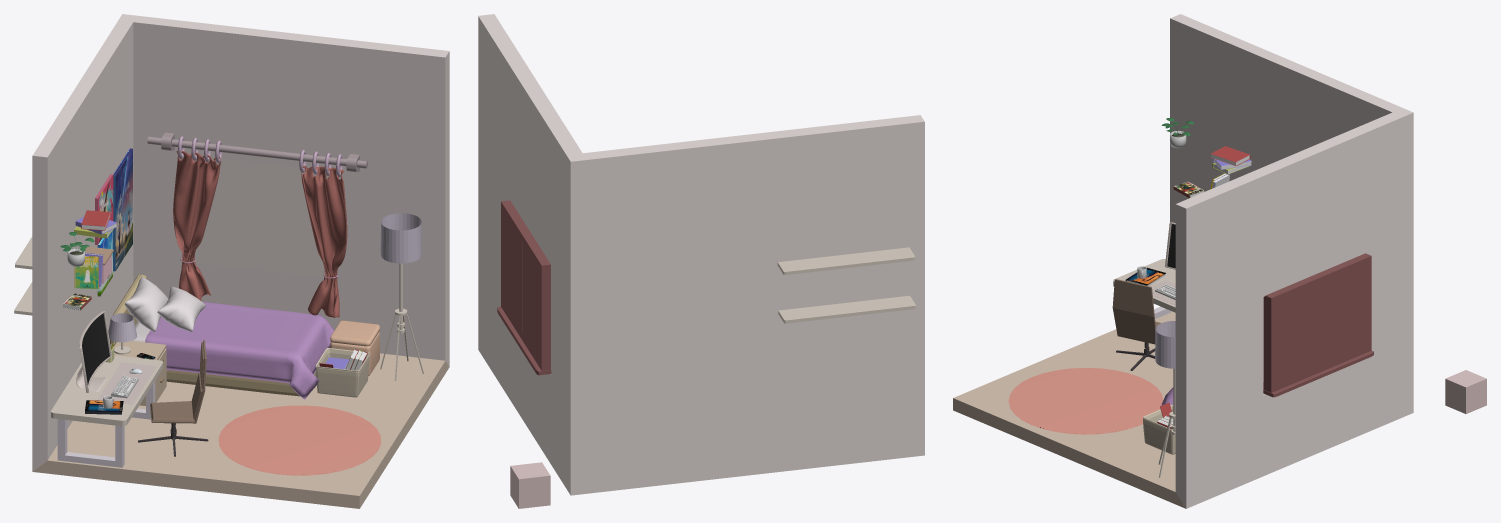
Rendered from room.glb.
The picture shows the model from 3 angles, left to right: view 1: azimuth 30°, elevation 25°; view 2: azimuth 150°, elevation 25°; view 3: azimuth 270°, elevation 25°; orthographic projection. The views are drawn at different scales.
Parts seen in each view (by area): view 1: Wall, Bed, Fake _wall, Carpet, Blinds, desk, Poster3, lamp1, Chair, Computer, Box1, Box2 (+12 smaller); view 2: Wall, Frame, Fake Frame, Shelf1, Shelf2, Cube; view 3: Wall, Carpet, Fake Frame, Frame, Chair, Cube, lamp1, Box1, desk.
Boxes of the visible parts, x1=… form: Wall: x1=32, y1=14, x2=449, y2=508; Bed: x1=110, y1=274, x2=334, y2=399; Fake _wall: x1=182, y1=156, x2=329, y2=277; Carpet: x1=218, y1=405, x2=380, y2=475; Blinds: x1=173, y1=151, x2=347, y2=317; desk: x1=51, y1=355, x2=163, y2=467; Poster3: x1=113, y1=148, x2=132, y2=271; lamp1: x1=380, y1=213, x2=422, y2=263; Chair: x1=138, y1=340, x2=208, y2=456; Computer: x1=76, y1=311, x2=111, y2=392; Box1: x1=315, y1=348, x2=369, y2=397; Box2: x1=330, y1=320, x2=379, y2=375; Wall: x1=478, y1=14, x2=924, y2=495; Frame: x1=497, y1=200, x2=551, y2=375; Fake Frame: x1=503, y1=211, x2=539, y2=359; Shelf1: x1=778, y1=295, x2=915, y2=323; Shelf2: x1=777, y1=247, x2=915, y2=274; Cube: x1=510, y1=462, x2=550, y2=508; Wall: x1=953, y1=14, x2=1413, y2=508; Carpet: x1=1008, y1=368, x2=1163, y2=434; Fake Frame: x1=1277, y1=264, x2=1365, y2=384; Frame: x1=1263, y1=253, x2=1373, y2=397; Chair: x1=1112, y1=279, x2=1161, y2=370; Cube: x1=1445, y1=370, x2=1486, y2=413; lamp1: x1=1155, y1=321, x2=1175, y2=368; Box1: x1=1143, y1=404, x2=1175, y2=454; desk: x1=1113, y1=259, x2=1175, y2=318.
Size of the model in its own units: 31.59 by 22.46 by 36.19.
Materials: 68 (9 with a texture image).
